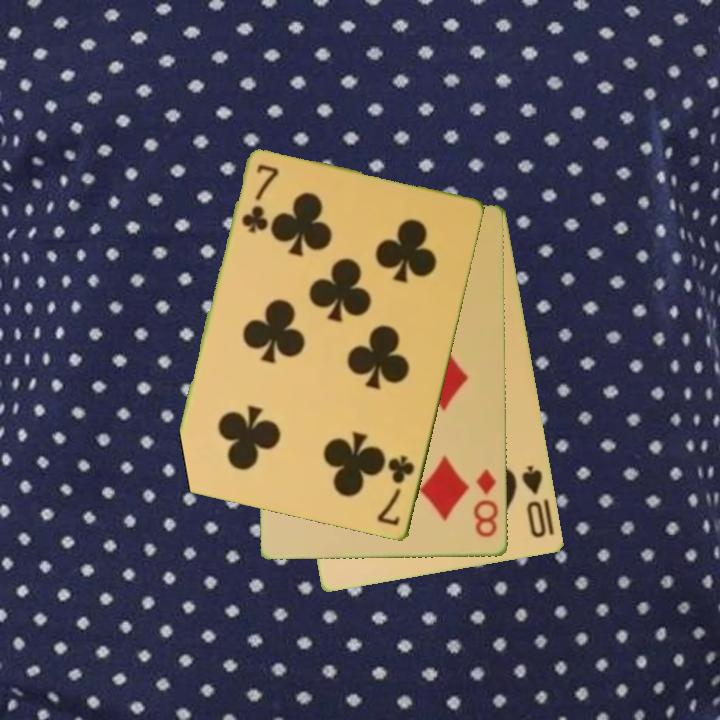10s: (518, 462, 550, 541)
7c: (374, 452, 418, 530), (238, 161, 279, 237)
8d: (470, 466, 501, 540)
